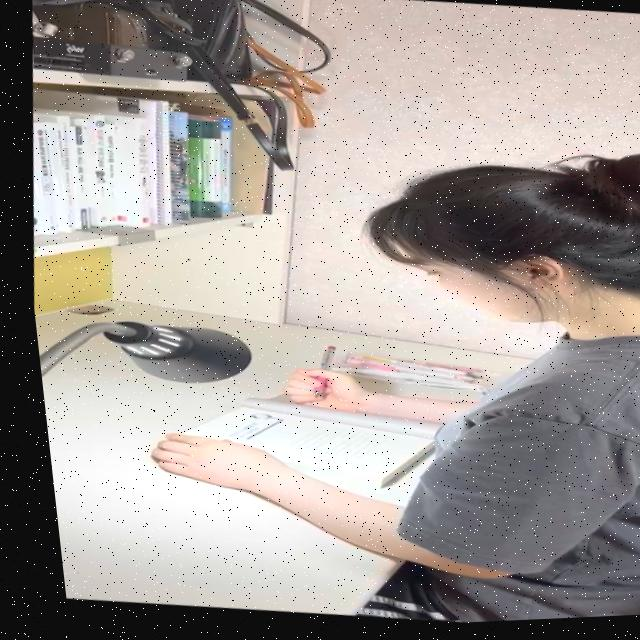studying-person: (84, 101, 640, 637)
